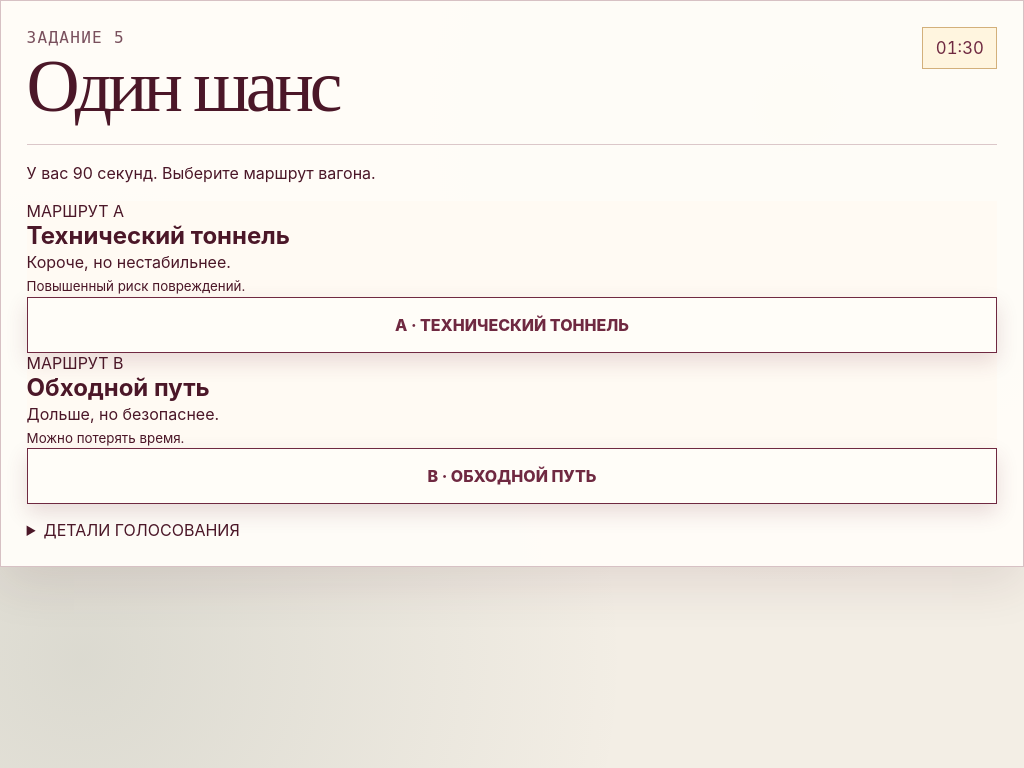
it: MissionFivePlayer › accepts one local vote immediately and keeps both routes locked while projection is deferred
Later steps or results of the test are not shown.
What coordinates should you click on to do the following:
click the button "A · ТЕХНИЧЕСКИЙ ТОННЕЛЬ"
I would click on:
 (512, 325)
Its box is [27,297,997,353].
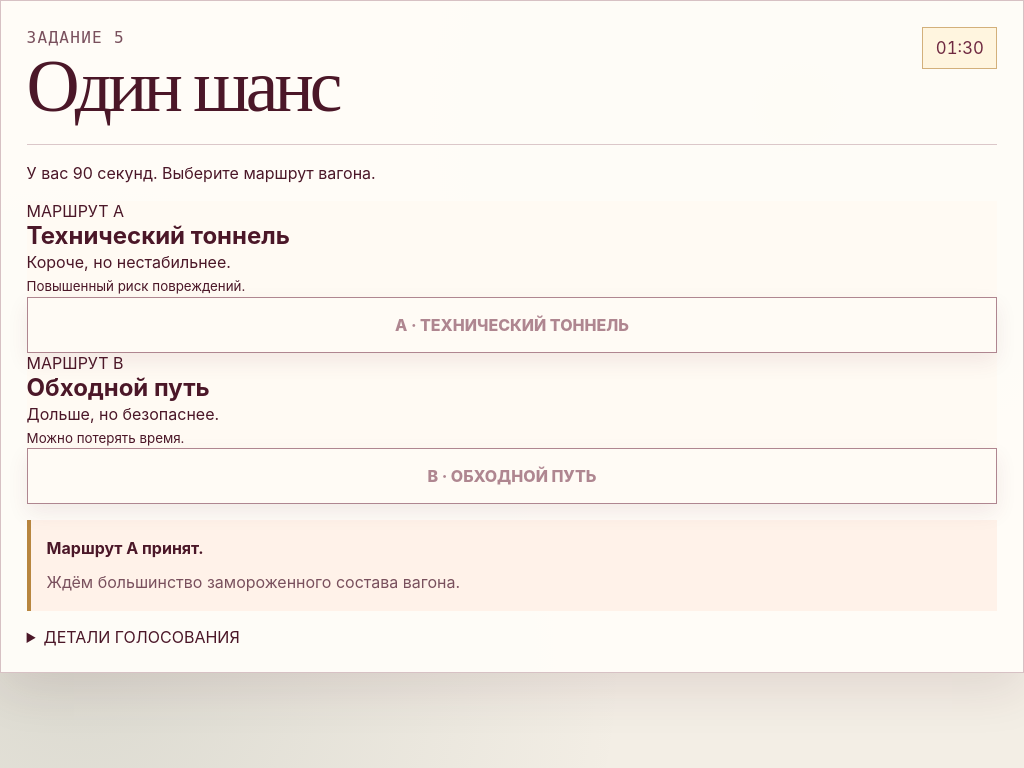
Now the message named "Состояние вашего выбора" shows "Маршрут A принят", box [27,520,997,611]
Now the button "A · ТЕХНИЧЕСКИЙ ТОННЕЛЬ" is disabled, box [27,297,997,353]
Now the button "B · ОБХОДНОЙ ПУТЬ" is disabled, box [27,448,997,504]
